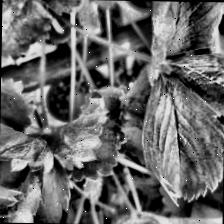Powdery Mildew Leaf: (138, 72, 224, 206), (43, 86, 127, 182), (163, 17, 224, 132), (146, 1, 224, 87), (0, 159, 74, 223), (0, 106, 55, 190)
